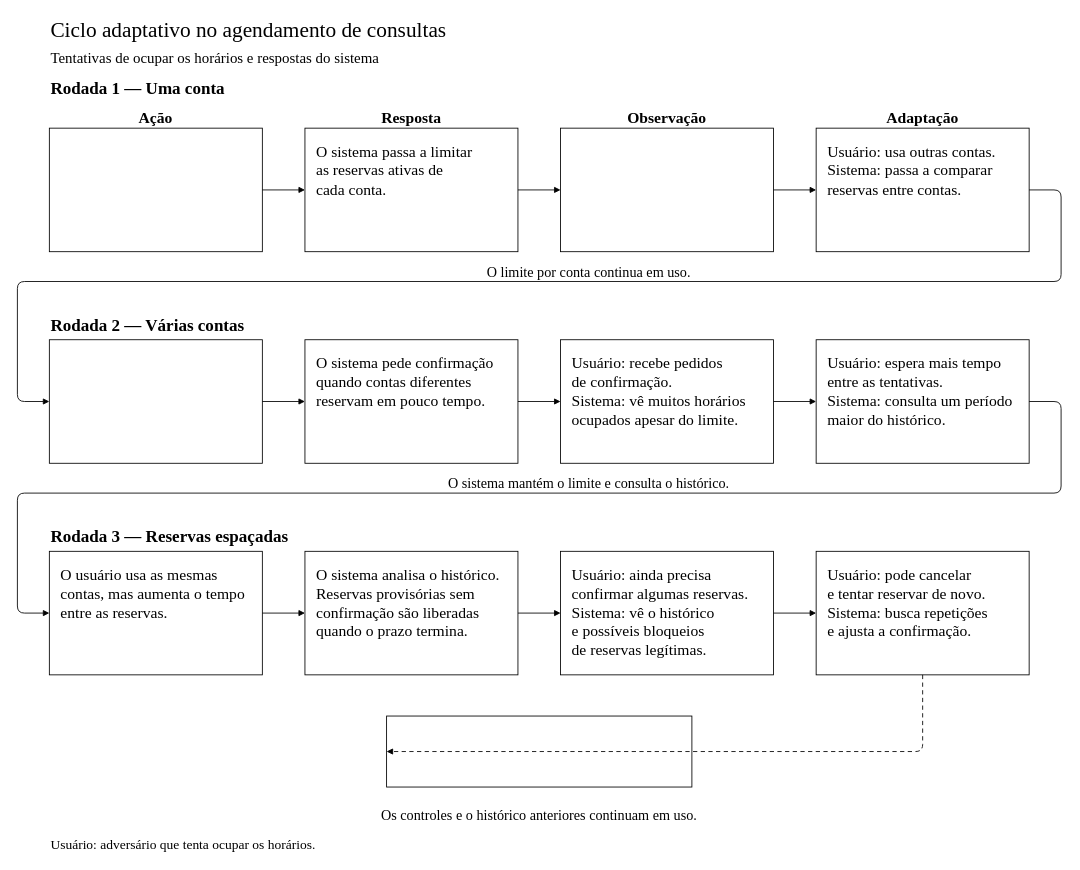
Image size: 1080x870. Some labels were removed from this diagram. Each missing label, with the centre of its shape:
O usuário tenta reservar vários horários usando uma só conta.: (155,189)
O usuário usa várias contas para reservar horários na mesma agenda.: (155,401)
Próxima rodada Nova tentativa de reserva.: (539,751)
Usuário: recebe recusas. Sistema: vê muitas reservas feitas na mesma conta.: (667,189)
